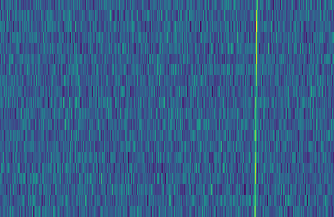signal: (251, 0, 262, 217)
